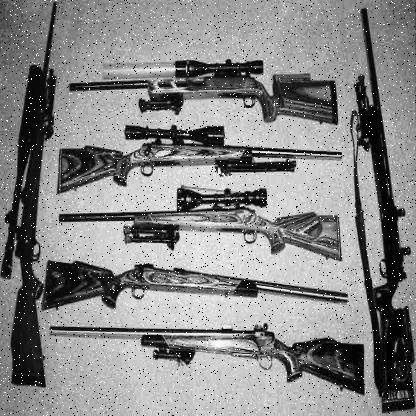rifle: (32, 316, 370, 415), (347, 1, 416, 410), (0, 0, 67, 409), (59, 178, 346, 267), (67, 59, 345, 137), (32, 249, 353, 316), (43, 126, 348, 194)
